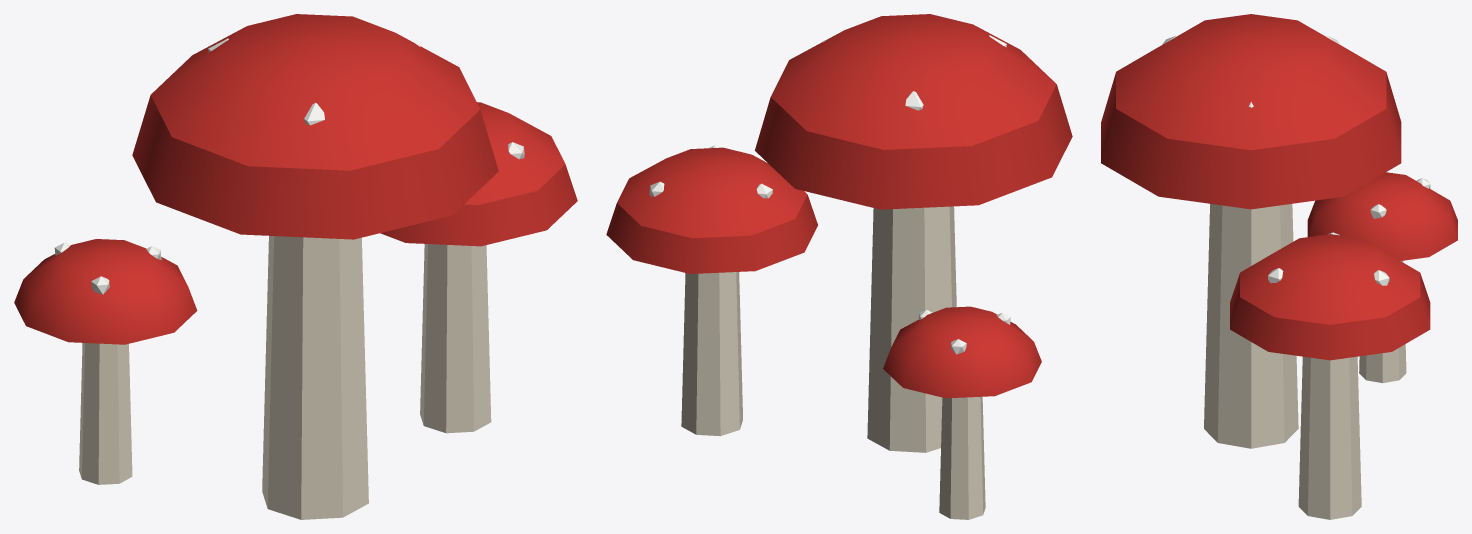
Rendered from SM_Mushroom_Cluster.glb.
3 renders of one model, left to right at view 1: azimuth 30°, elevation 25°; view 2: azimuth 150°, elevation 25°; view 3: azimuth 270°, elevation 25°, orthographic. The views are drawn at different scales.
Visible parts, largest first — view 1: SM_Mushroom_Cluster; view 2: SM_Mushroom_Cluster; view 3: SM_Mushroom_Cluster.
Boxes of the visible parts, bbox=[...] form: SM_Mushroom_Cluster: bbox=[14, 14, 577, 519]; SM_Mushroom_Cluster: bbox=[606, 14, 1072, 519]; SM_Mushroom_Cluster: bbox=[1101, 14, 1457, 519].
Bounding box in the file's own units: 0.19 × 0.163 × 0.1356.
1 material, 1 textured.
